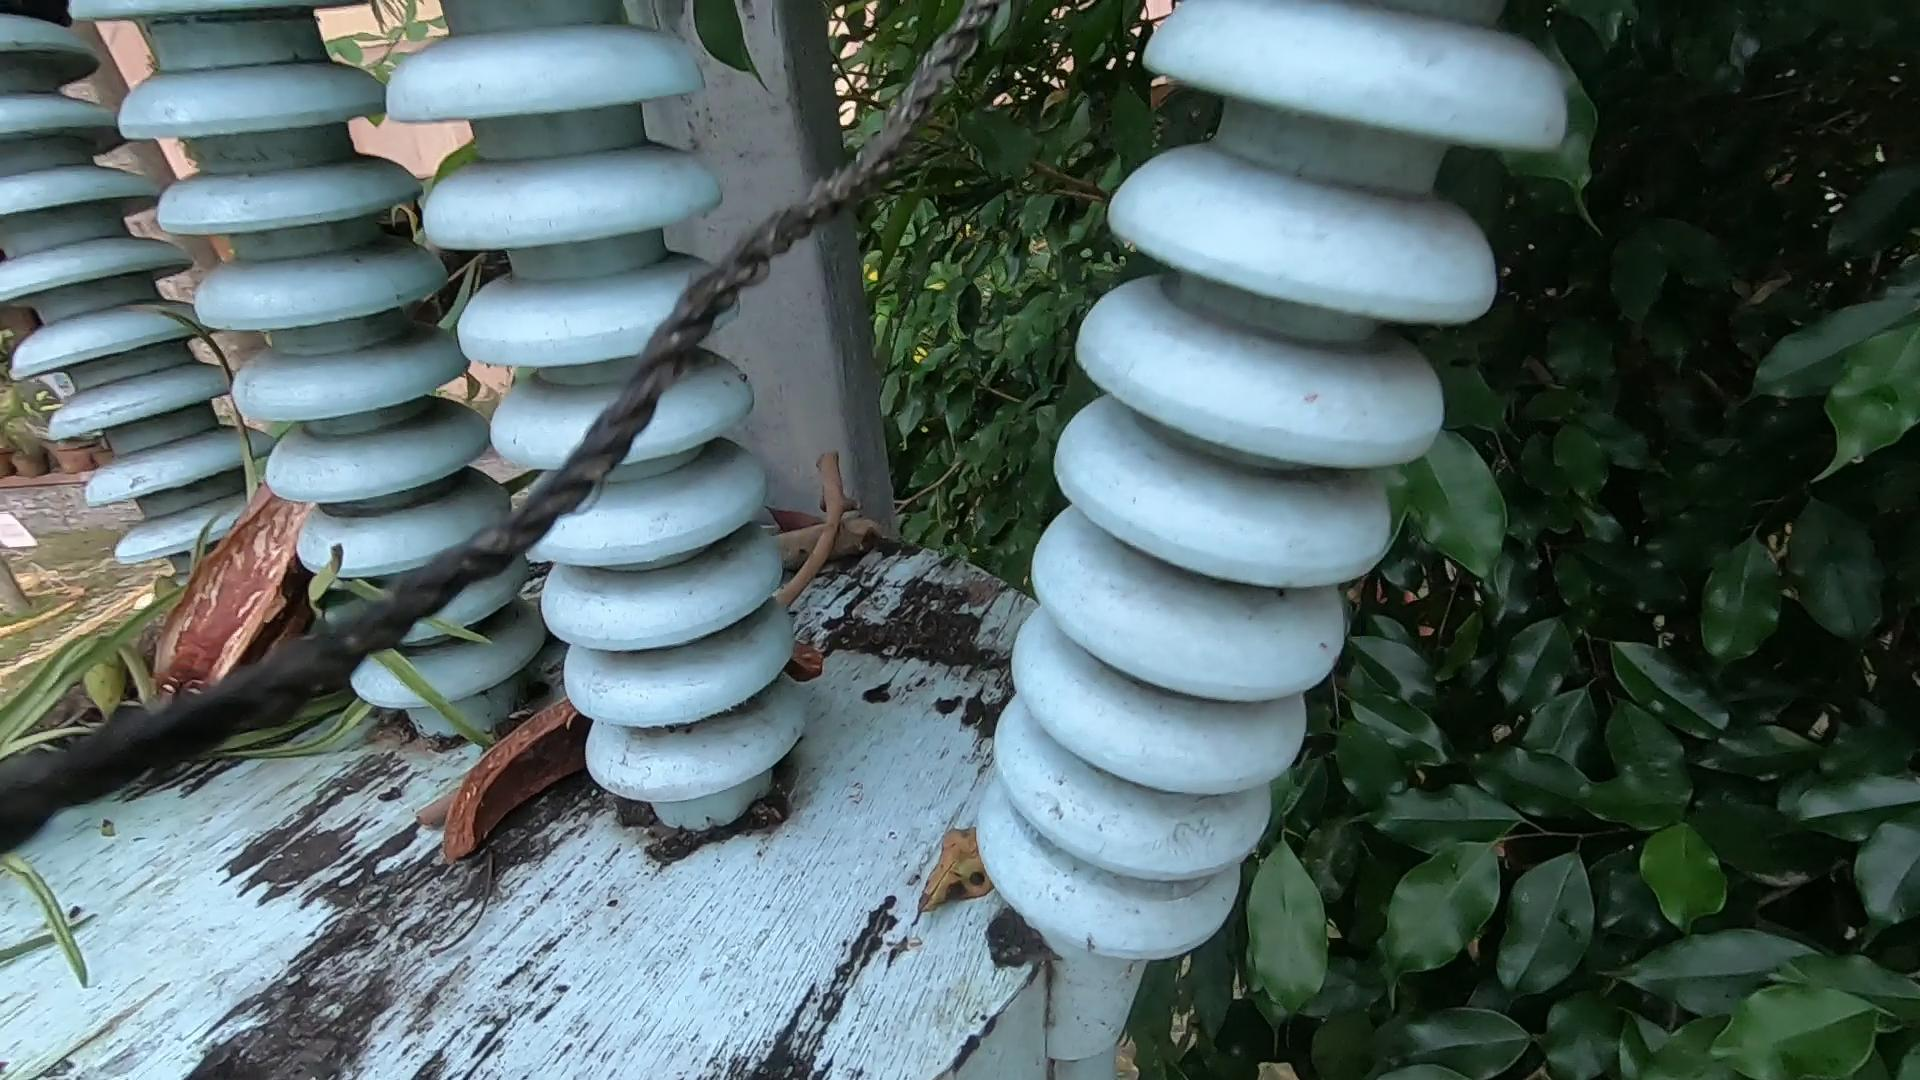branch with leaves: (1, 198, 560, 787)
leaf: (926, 775, 1000, 948)
mahogany fruit: (458, 715, 733, 1021), (191, 440, 425, 798)
tree branch: (742, 505, 876, 673), (764, 407, 858, 640), (404, 757, 516, 878)
